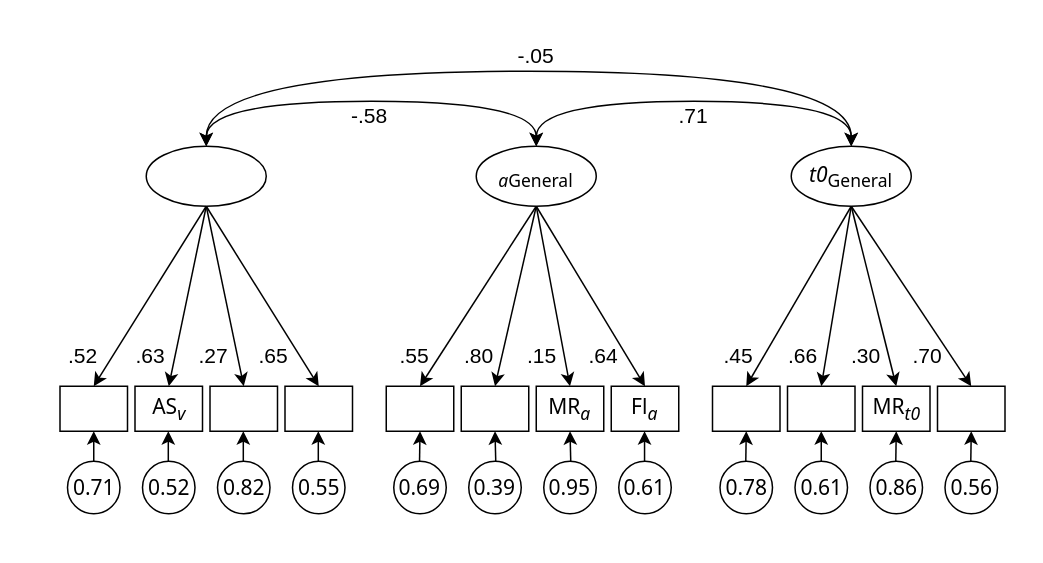
Image size: 1043x563. Some labels were removed from this diagram. The box of each missing label's shape, as (x1, y1, x2, y2) in pixels:
AS a: (460, 385, 529, 431)
AS t0: (786, 385, 855, 431)
Fl t0: (936, 385, 1005, 431)
Fl v: (284, 385, 352, 431)
MR v: (208, 385, 278, 431)
PS a: (385, 385, 454, 431)
PS t0: (711, 385, 780, 431)
PS v: (58, 385, 128, 431)
v General: (145, 145, 266, 206)
